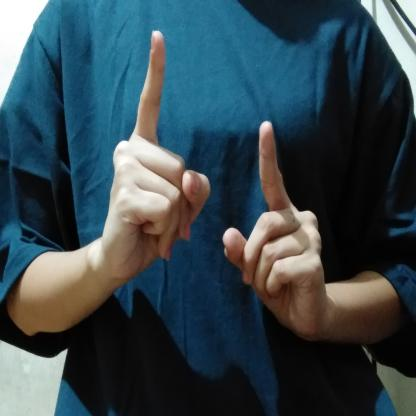morning: (101, 26, 340, 359)
